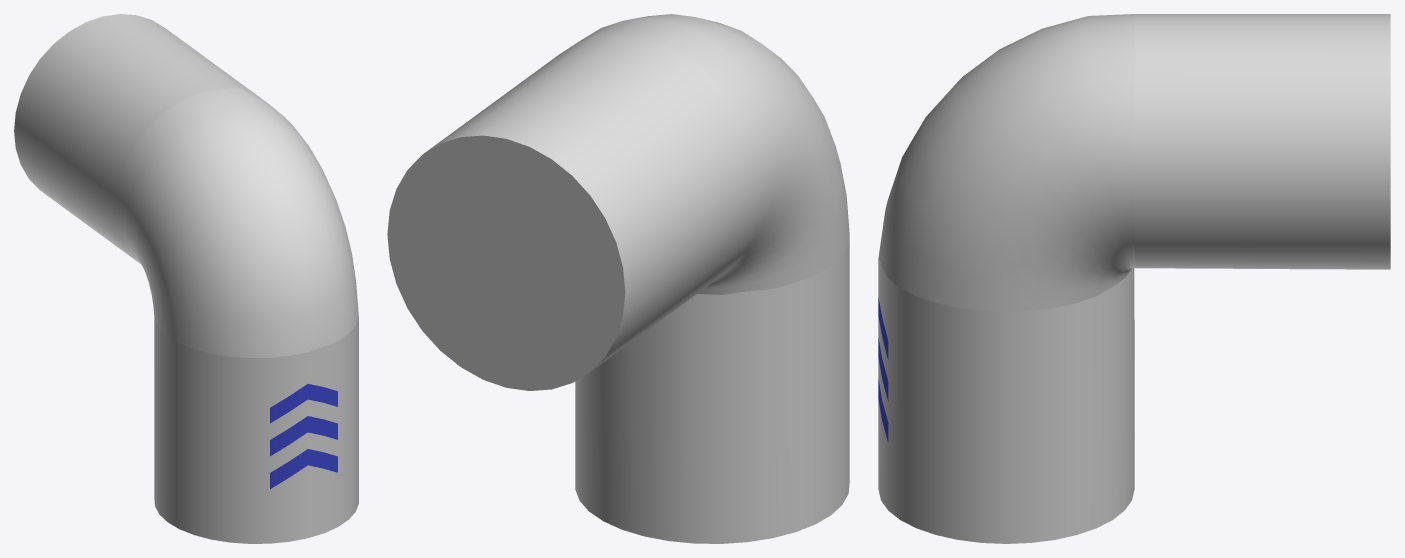
Rendered from ReceiverChannel.fbx.
3 views of the same model, side by side, from view 1: azimuth 30°, elevation 25°; view 2: azimuth 150°, elevation 25°; view 3: azimuth 270°, elevation 25° (orthographic). The views are drawn at different scales.
Visible parts, largest first — view 1: ReceiverChannel; view 2: ReceiverChannel; view 3: ReceiverChannel.
Boxes of the visible parts, bbox=[...] form: ReceiverChannel: bbox=[14, 14, 358, 543]; ReceiverChannel: bbox=[387, 14, 849, 543]; ReceiverChannel: bbox=[878, 14, 1390, 543].
Bounding box in the file's own units: 200 × 400 × 400.
